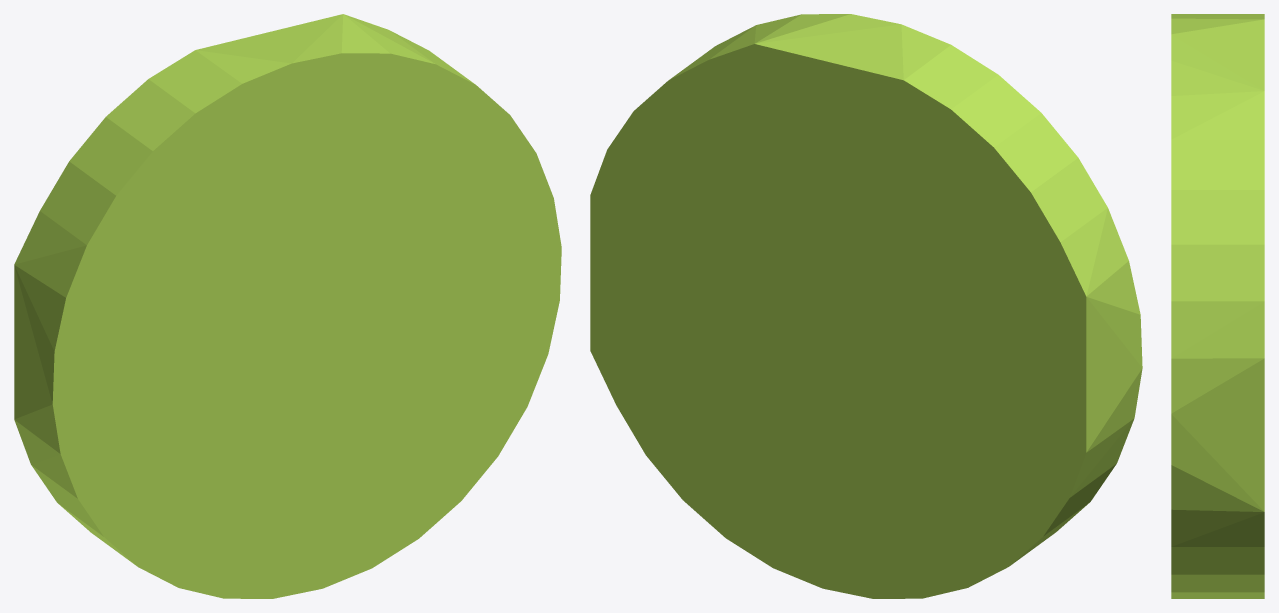
File: ur10e_robot_base_coll_3.dae
The picture shows the model from 3 angles, left to right: view 1: azimuth 30°, elevation 25°; view 2: azimuth 150°, elevation 25°; view 3: azimuth 270°, elevation 25°; orthographic projection.
Parts seen in each view (by area): view 1: node; view 2: node; view 3: node.
Boxes of the visible parts, left/top/right/bottom form: node: left=14, top=14, right=561, bottom=598; node: left=590, top=14, right=1142, bottom=598; node: left=1171, top=14, right=1264, bottom=598.
Bounding box in the file's own units: 0.1497 × 0.1497 × 0.024.
